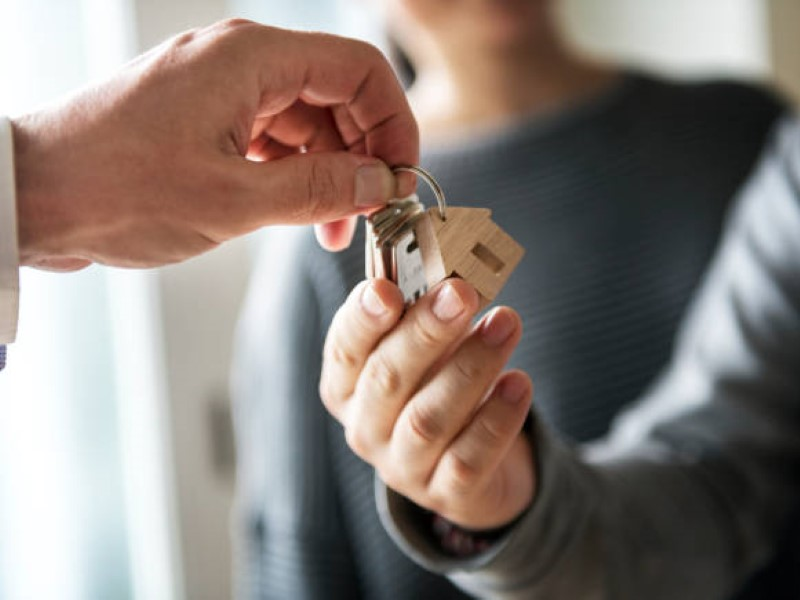key: (357, 199, 436, 305)
